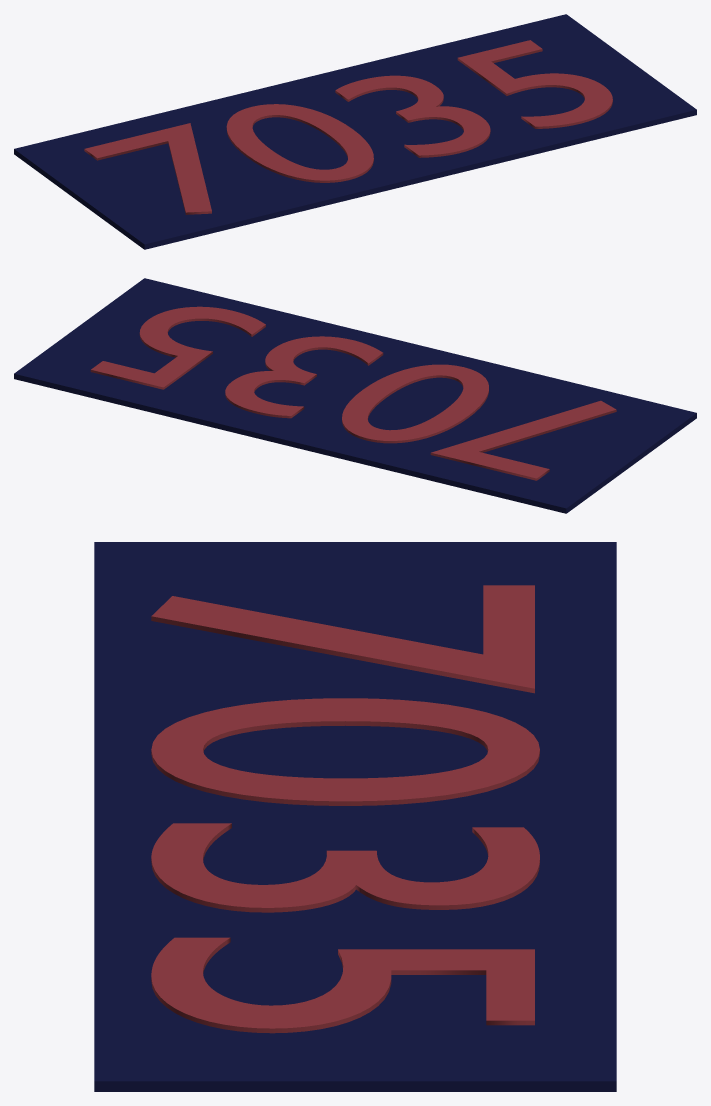
The model's file is code.fbx.
The picture shows the model from 3 angles, top to bottom: view 1: azimuth 30°, elevation 25°; view 2: azimuth 150°, elevation 25°; view 3: azimuth 270°, elevation 25°; orthographic projection. The views are drawn at different scales.
Parts seen in each view (by area): view 1: Cube, Text; view 2: Cube, Text; view 3: Cube, Text.
Boxes of the visible parts, x1,y1,x2,y2 form: Cube: [14, 14, 696, 249]; Text: [84, 40, 612, 214]; Cube: [14, 278, 696, 513]; Text: [90, 306, 616, 480]; Cube: [94, 542, 616, 1091]; Text: [151, 585, 539, 1033].
Size of the model in its own units: 489 by 6.9 by 200.
